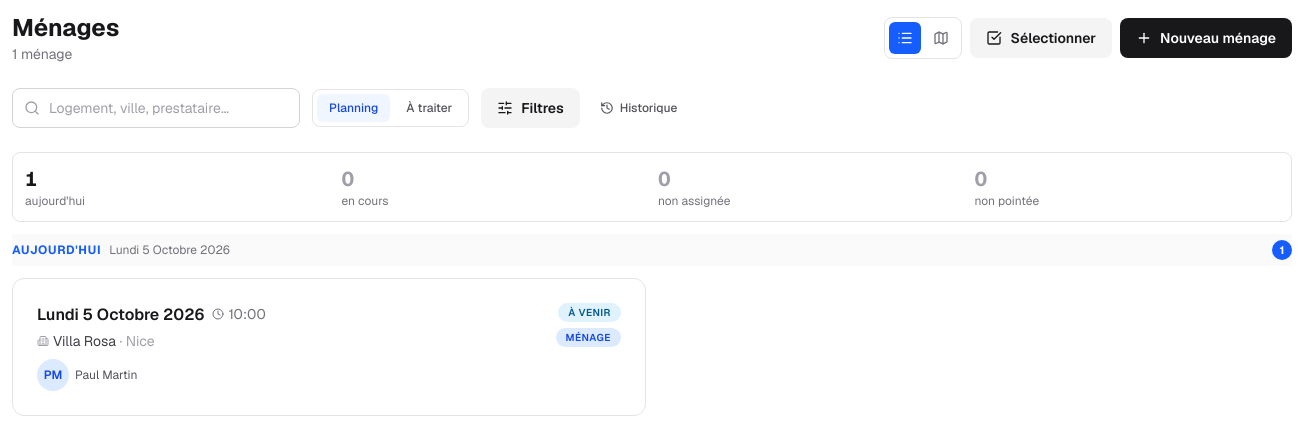
Test case: Liste des prestations — vue À traiter › affiche « Tout est à jour » quand rien n'attend
This screenshot has width=1304, height=433.
Expected: the heading "Aujourd'hui" is shown, [12,242,101,258]
Click the button "À traiter". click: (429, 108)
box: [394,94,464,122]
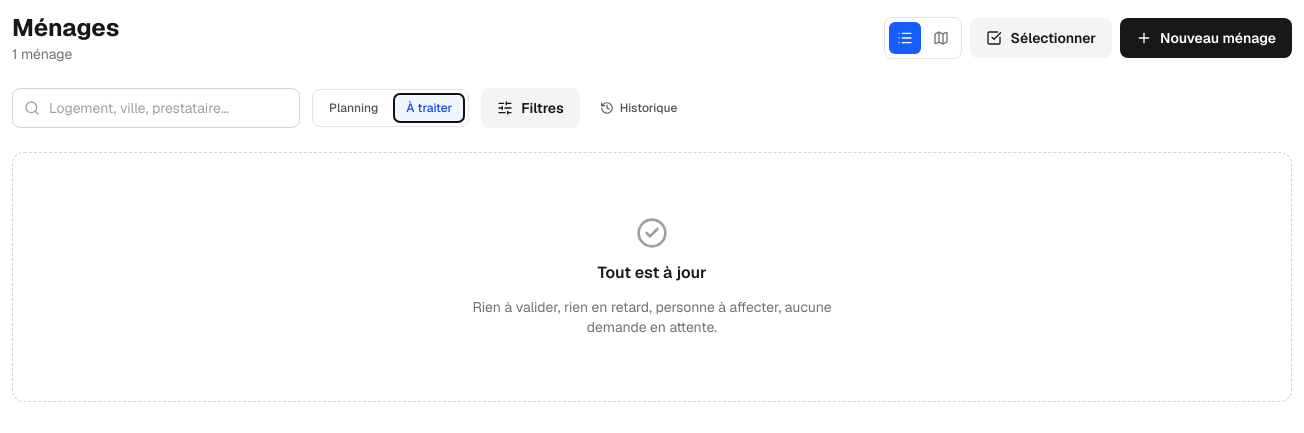
Expected: the heading "Tout est à jour" is shown, [598,261,707,285]
